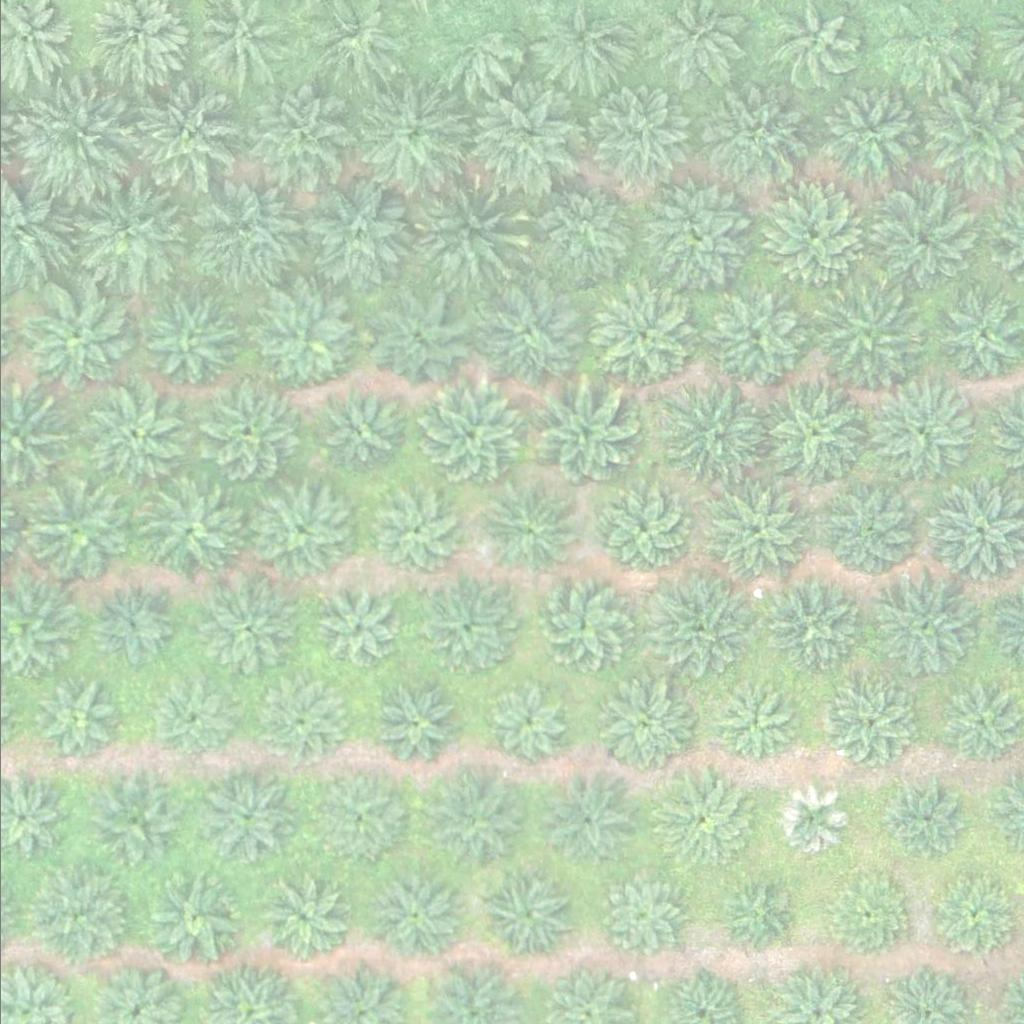Kelapa_Sawit: (812, 284, 926, 397), (755, 376, 869, 489), (656, 384, 770, 497), (582, 82, 695, 195), (866, 571, 979, 684), (525, 378, 638, 491), (415, 380, 528, 493), (302, 179, 415, 292), (192, 175, 305, 288), (468, 84, 581, 197), (355, 75, 468, 188), (238, 81, 351, 194), (20, 83, 133, 196), (72, 180, 185, 293), (862, 374, 976, 486), (640, 571, 754, 683), (126, 81, 240, 193), (811, 83, 924, 195), (862, 187, 975, 299), (638, 186, 751, 298), (522, 177, 635, 289), (407, 176, 520, 288), (18, 284, 131, 396), (79, 379, 192, 491), (699, 91, 800, 191), (763, 189, 864, 289), (706, 291, 807, 391), (762, 577, 863, 677), (653, 775, 754, 875), (588, 863, 689, 963), (478, 863, 579, 963), (538, 769, 639, 869), (197, 582, 298, 682), (478, 480, 579, 580), (250, 481, 351, 581), (133, 481, 234, 581), (196, 385, 297, 485), (591, 284, 692, 384), (479, 281, 580, 381), (363, 290, 464, 390), (253, 291, 354, 391), (139, 288, 240, 388), (85, 772, 186, 872), (32, 867, 133, 967), (819, 481, 919, 581), (702, 483, 802, 583), (143, 867, 243, 967), (423, 772, 523, 872), (196, 767, 296, 867), (595, 677, 695, 777), (533, 576, 633, 676), (417, 580, 517, 680), (592, 480, 692, 580), (30, 482, 130, 582), (820, 871, 909, 959), (714, 872, 802, 960), (923, 874, 1011, 962), (478, 680, 566, 768), (314, 389, 402, 477), (429, 5, 517, 93), (883, 4, 971, 91), (931, 678, 1019, 765), (821, 681, 909, 768), (367, 872, 455, 959), (256, 875, 344, 962), (307, 775, 395, 862), (315, 587, 403, 674), (371, 489, 459, 576), (716, 687, 792, 762), (373, 689, 449, 764), (262, 687, 338, 762), (92, 590, 168, 665), (39, 684, 115, 759), (884, 781, 959, 856), (770, 783, 845, 858), (148, 679, 223, 754)
